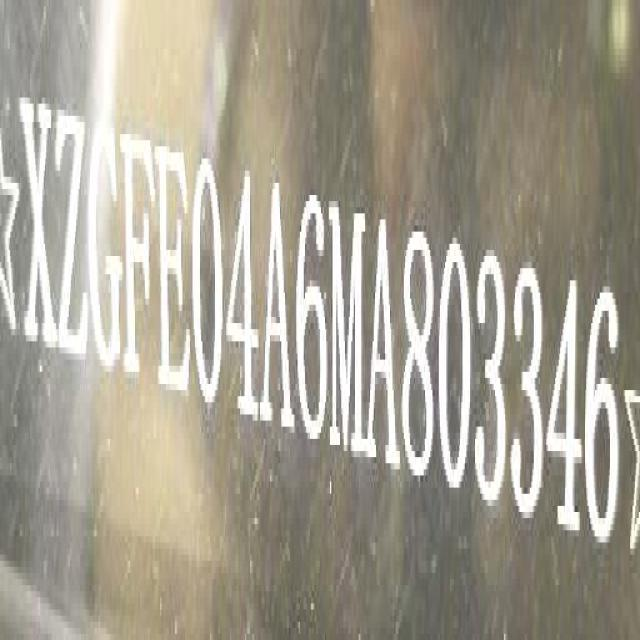0: (193, 153, 224, 418), (439, 231, 470, 494)
3: (513, 258, 547, 529), (476, 245, 509, 514)
4: (550, 267, 584, 538), (225, 158, 259, 423)
6: (587, 276, 624, 553), (296, 180, 331, 450)
8: (401, 220, 436, 490)
A: (260, 163, 296, 447), (368, 202, 398, 473)
E: (157, 136, 191, 404)
F: (123, 126, 157, 398)
G: (89, 113, 124, 381)
M: (326, 183, 372, 469)
X: (18, 88, 58, 359)
Z: (56, 100, 86, 370)
